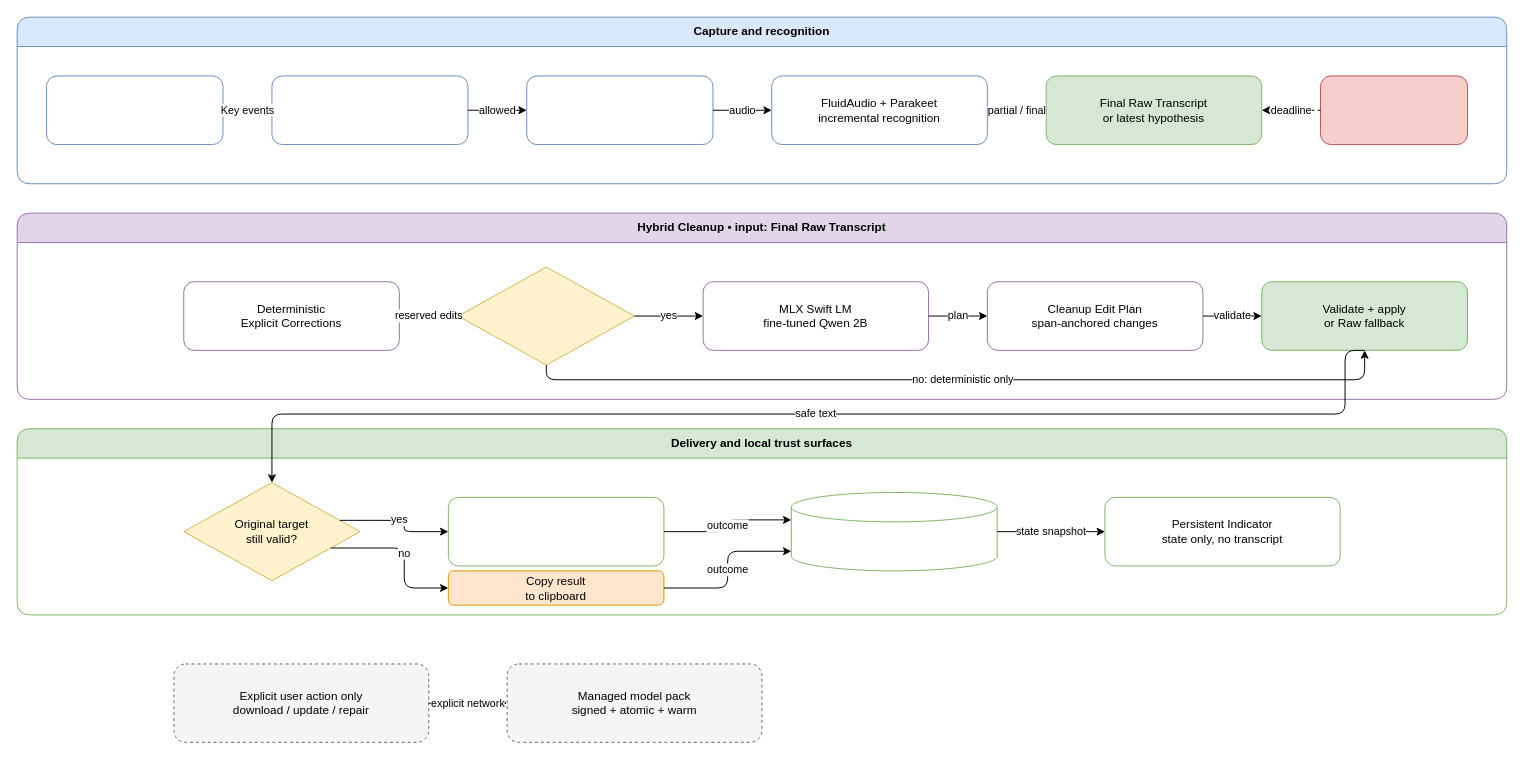
Some shapes in this 1524 by 760 pixel diagram are drawn without their labels. Here are the shapes that lost their labels. From the top down, the centre of each, then its label:
At point 134,110: "Right Option key-down / key-up".
At point 369,110: "Targeting secure check + context".
At point 619,110: "AudioCapture bounded memory".
At point 1394,110: "1.4 s watchdog".
At point 546,315: "Within measured token budget?".
At point 555,531: "Accessibility insert paste fallback".
At point 893,531: "Encrypted history 30-day expiry".
